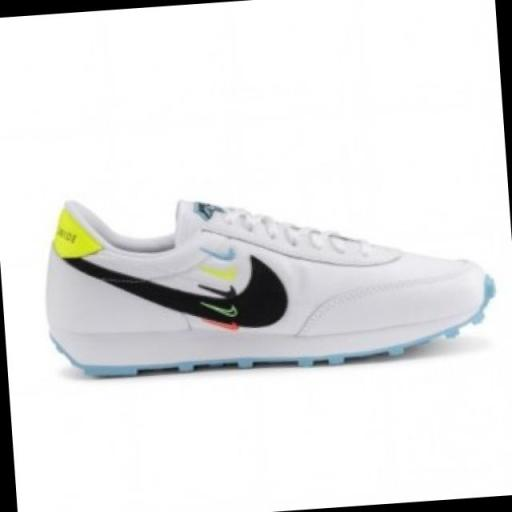Nike: (52, 230, 297, 348)
